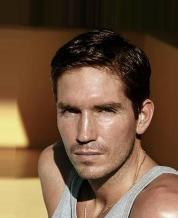face: (58, 101, 124, 161)
